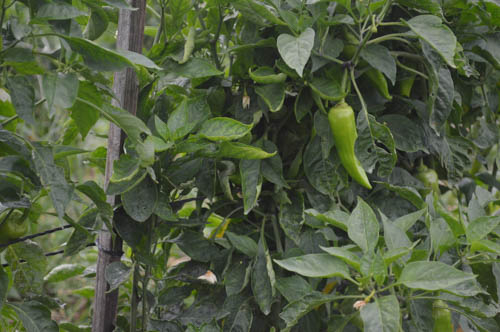ChiliPepper: (329, 106, 372, 187)
